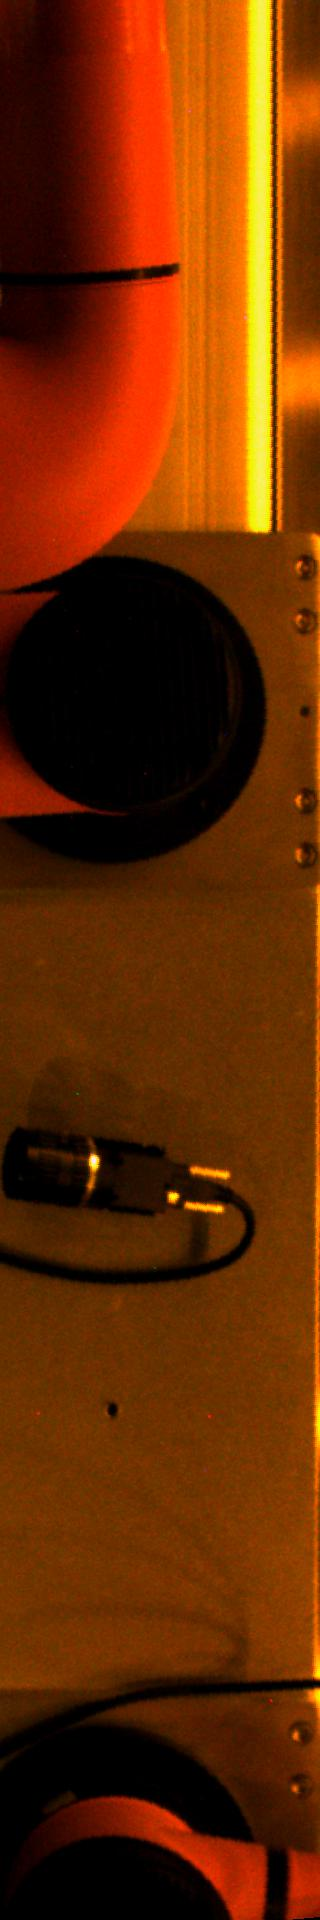keyPoint_2: (97, 1393, 128, 1424)
